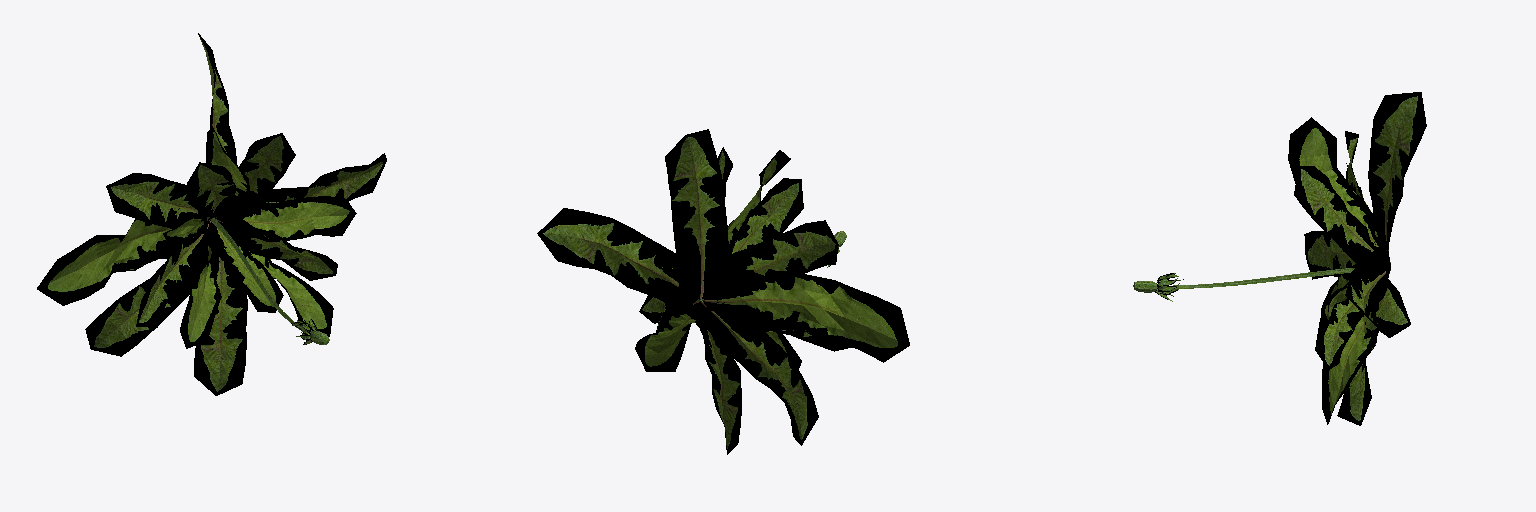
The picture shows the model from 3 angles: view 1: azimuth 30°, elevation 25°; view 2: azimuth 150°, elevation 25°; view 3: azimuth 270°, elevation 25°; orthographic projection.
Parts seen in each view (by area): view 1: GC17_2; view 2: GC17_2; view 3: GC17_2.
Part boxes in pixels (left/top/right/bottom): GC17_2: left=37, top=33, right=386, bottom=395; GC17_2: left=537, top=129, right=909, bottom=454; GC17_2: left=1133, top=92, right=1426, bottom=425.
Bounding box in the file's own units: 3.27 × 2.93 × 2.3.
Materials: 4 (4 with a texture image).